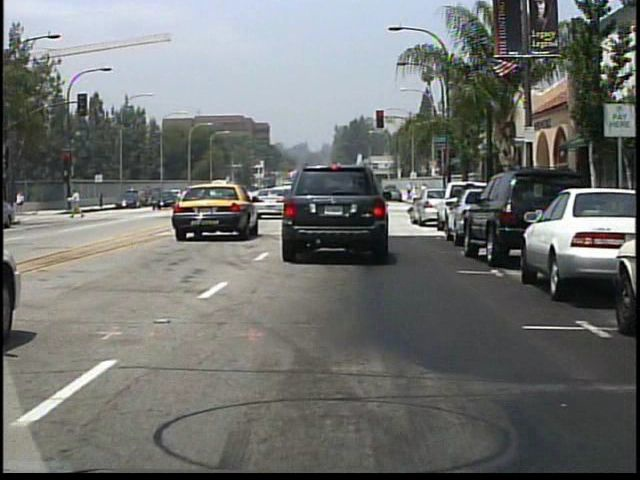person: (404, 182, 424, 216), (70, 187, 85, 220), (15, 189, 28, 215)
